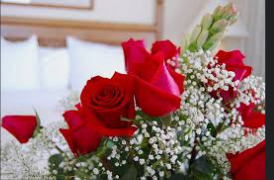RedRose: (123, 38, 191, 110), (83, 70, 145, 139), (205, 43, 252, 98), (61, 104, 99, 156), (2, 106, 40, 145), (234, 96, 266, 134)
